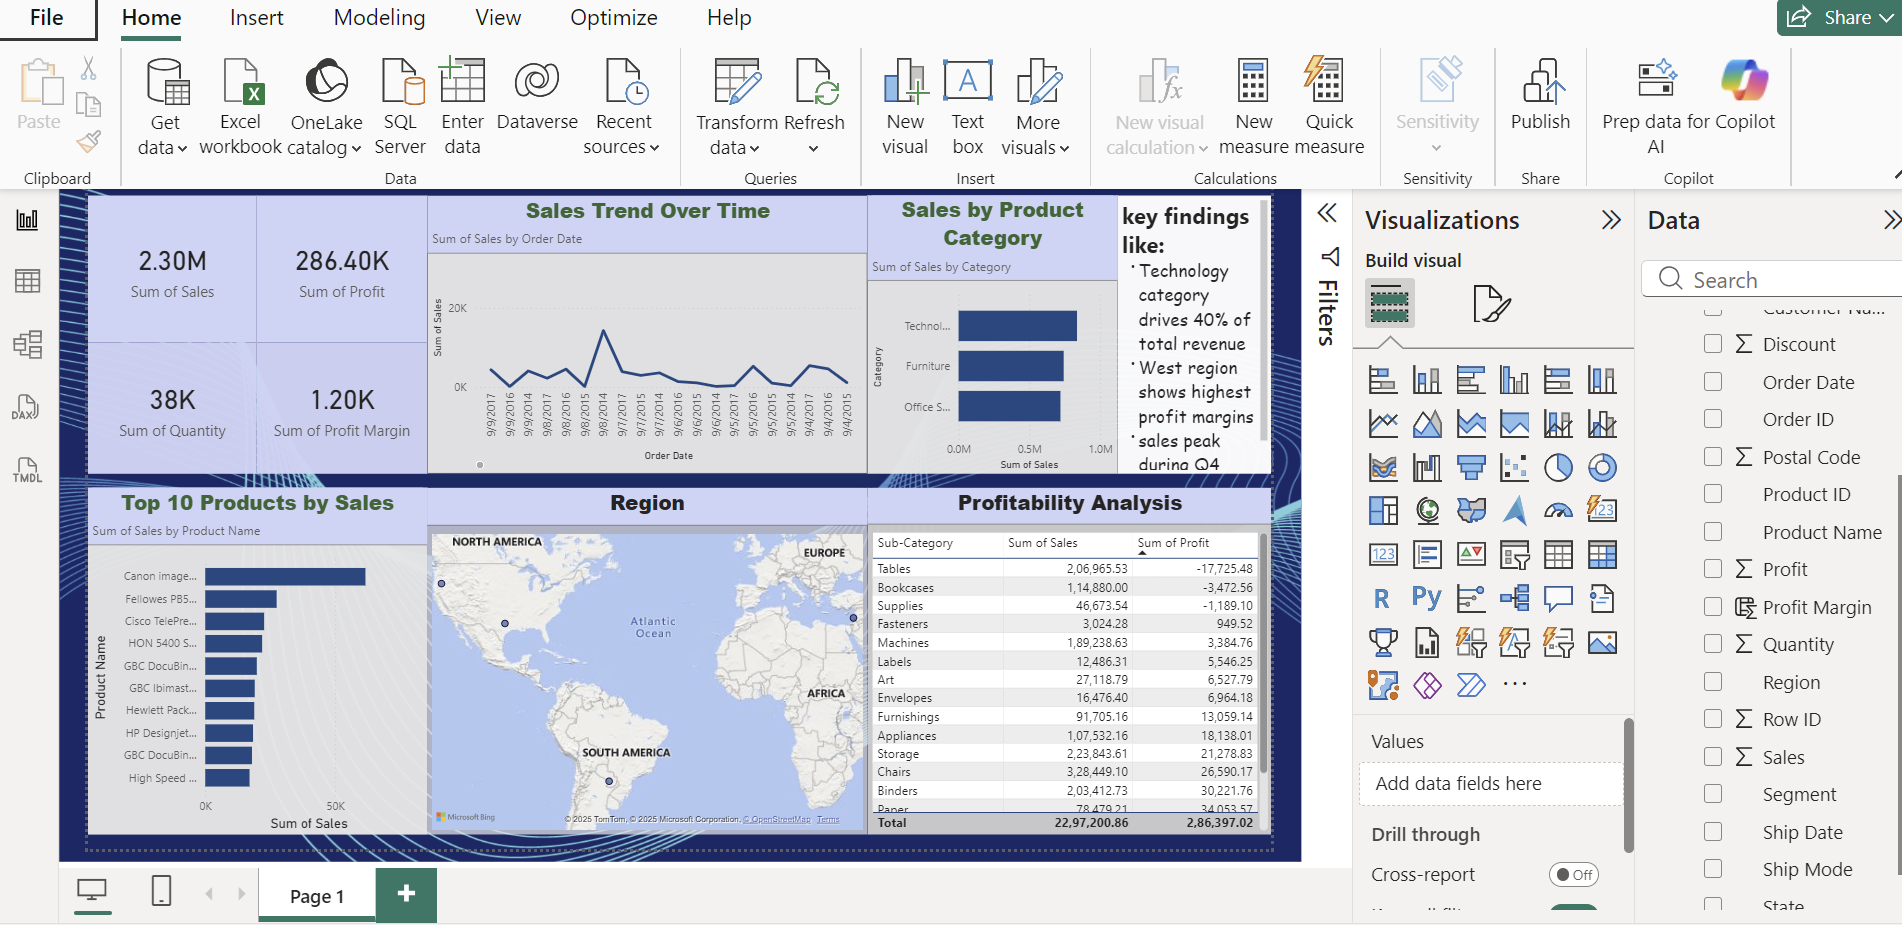

What the dashboard file says about the page in this screenshot:
{"tool":"powerbi","page":{"name":"Page 1","canvas":[1280,720],"ordinal":0},"visuals":[{"type":"lineChart","title":"Sales Trend Over Time","fields":{"Category":["Sample - Superstore.Order Date"],"Y":["Sum(Sample - Superstore.Sales)","select"]},"box":[366.6,13.5,476.4,300.7],"z":0},{"type":"barChart","title":"Sales by Product Category","fields":{"Category":["Sample - Superstore.Category"],"Y":["Sum(Sample - Superstore.Sales)"]},"box":[842.9,13.5,270.3,300.7],"z":1000},{"type":"clusteredBarChart","title":"Top 10 Products by Sales","fields":{"Category":["Sample - Superstore.Product Name"],"Y":["Sum(Sample - Superstore.Sales)"]},"box":[0,329.4,366.6,375],"z":2000},{"type":"tableEx","title":"Profitability Analysis","fields":{"Values":["Sample - Superstore.Sub-Category","Sum(Sample - Superstore.Sales)","Sum(Sample - Superstore.Profit)"]},"box":[842.9,329.4,437.5,375],"z":3000},{"type":"map","fields":{"Category":["Sample - Superstore.Region"]},"box":[366.6,329.4,476.4,375],"z":4000},{"type":"card","fields":{"Values":["Sum(Sample - Superstore.Sales)"]},"box":[0,13.5,182.4,158.8],"z":5000},{"type":"card","fields":{"Values":["Sum(Sample - Superstore.Profit)"]},"box":[182.4,13.5,184.1,158.8],"z":6000},{"type":"card","fields":{"Values":["Sum(Sample - Superstore.Quantity)"]},"box":[0,172.3,182.4,141.9],"z":7000},{"type":"card","fields":{"Values":["Sum(Sample - Superstore.Profit Margin)"]},"box":[182.4,172.3,184.1,141.9],"z":8000},{"type":"textbox","box":[1113.2,13.5,167.2,300.7],"z":8001}]}

Visuals, with their boxes on the page's 1280x720 design canvas (x1, y1, x2, y2). These are canvas units, not pixel positions in the 1902x925 screenshot, which may show the page scaled, cropped or inside an application window:
"Sales Trend Over Time" lineChart: [367, 14, 843, 314]
"Sales by Product Category" barChart: [843, 14, 1113, 314]
"Top 10 Products by Sales" clusteredBarChart: [0, 329, 367, 704]
"Profitability Analysis" tableEx: [843, 329, 1280, 704]
map - Sample - Superstore.Region: [367, 329, 843, 704]
card - Sum(Sample - Superstore.Sales): [0, 14, 182, 172]
card - Sum(Sample - Superstore.Profit): [182, 14, 366, 172]
card - Sum(Sample - Superstore.Quantity): [0, 172, 182, 314]
card - Sum(Sample - Superstore.Profit Margin): [182, 172, 366, 314]
textbox: [1113, 14, 1280, 314]
